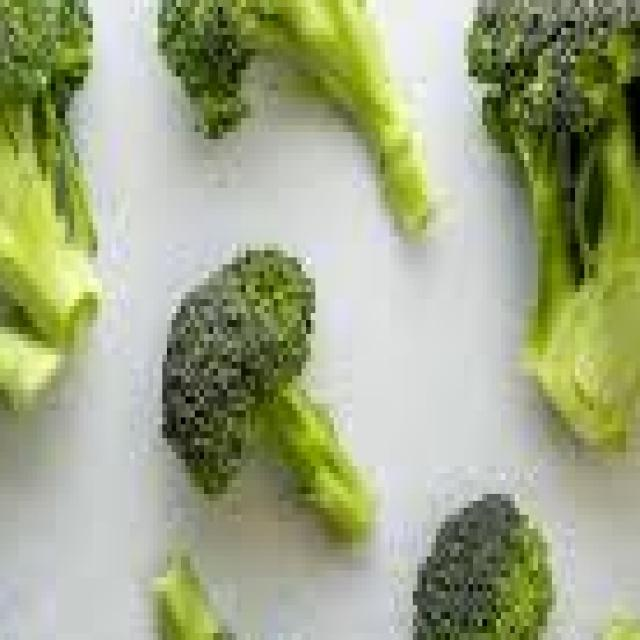broccoli: (464, 0, 640, 459), (153, 0, 450, 243), (158, 243, 371, 543), (409, 494, 558, 640)
